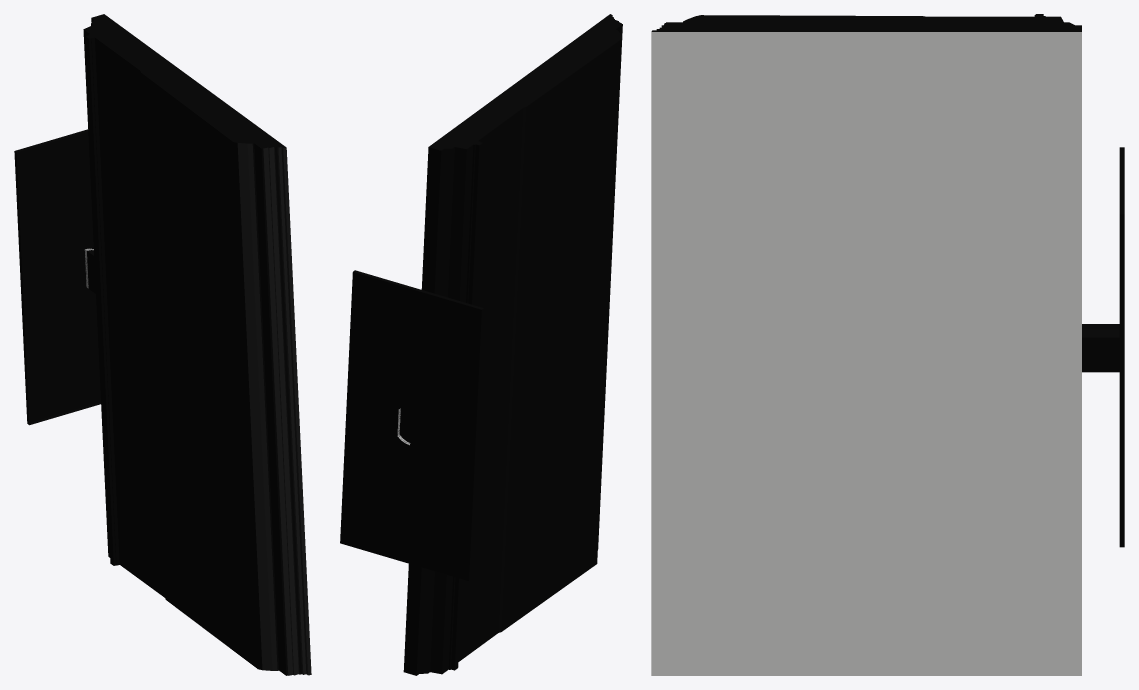
3 renders of one model, left to right at view 1: azimuth 30°, elevation 25°; view 2: azimuth 150°, elevation 25°; view 3: azimuth 270°, elevation 25°, orthographic. The views are drawn at different scales.
Visible parts, largest first — view 1: tv.001; view 2: tv.001; view 3: tv.001.
Boxes of the visible parts, box(x1,y1,x2,y2) form: tv.001: box(14, 14, 311, 675); tv.001: box(340, 14, 622, 675); tv.001: box(651, 14, 1124, 675).
Size of the model in its own units: 0.3033 by 1.09 by 0.7398.
11 materials, 9 textured.
